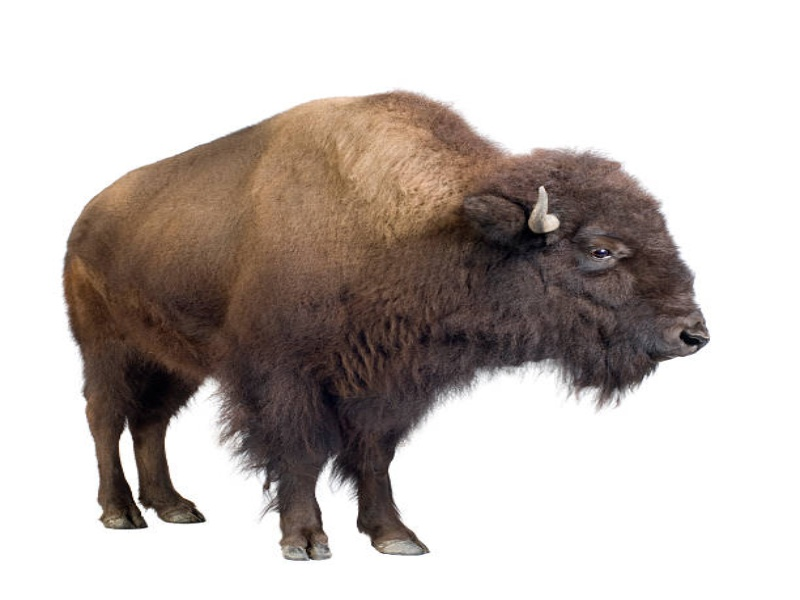buffalo: (51, 81, 719, 564)
